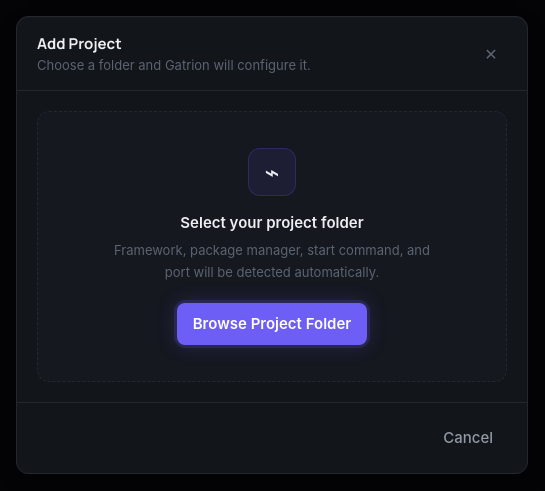
Test: ProjectModal folder detection › first Browse applies the detected type instead of staying CUSTOM
The width and height of the screenshot is (545, 491).
Click the button "Browse Project Folder".
click(272, 324)  # box [177,303,367,345]
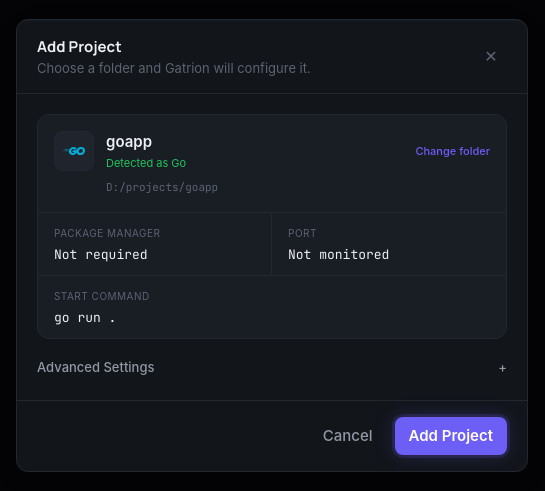
Check: the text "Detected as Go" is shown, box [106,154,186,171]
Check: the text "go run ." is shown, box [54,308,116,326]
Check: the text "goapp" is shown, box [106,132,152,150]
